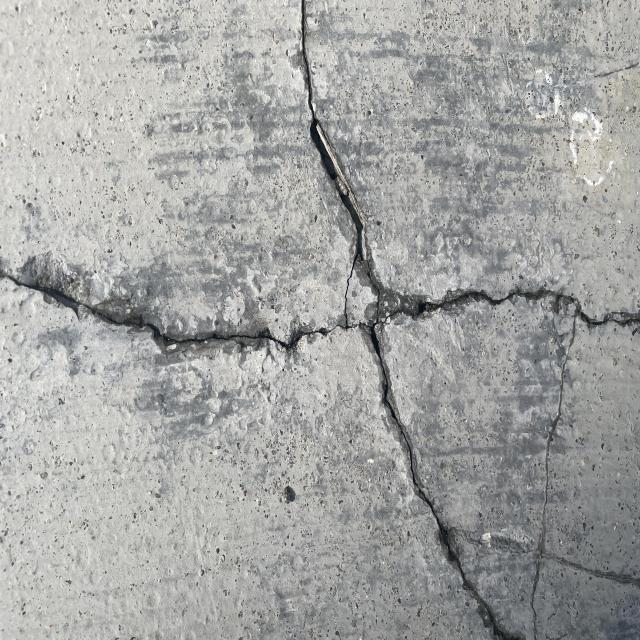Crack: (0, 231, 640, 379), (352, 379, 636, 638), (266, 0, 396, 231)
